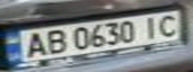0: (69, 25, 90, 51), (118, 18, 139, 43)
3: (103, 20, 124, 46)
6: (87, 21, 109, 48)
A: (18, 29, 51, 60)
B: (39, 27, 69, 55)
C: (151, 12, 184, 38)
I: (136, 15, 163, 39)
